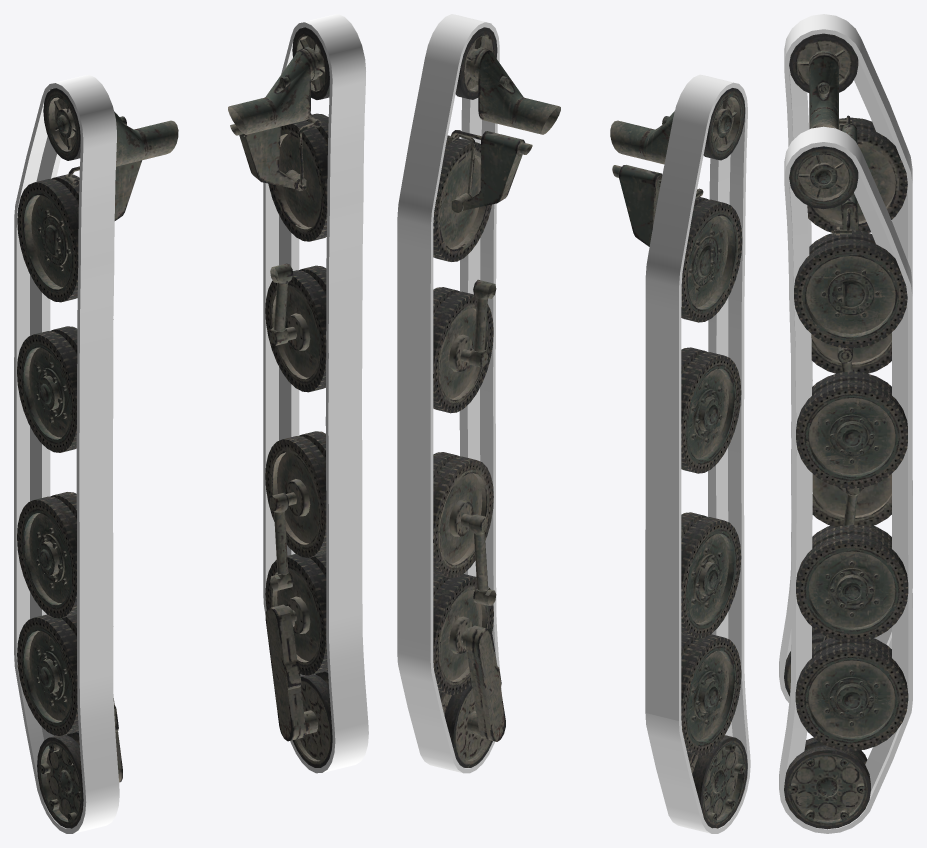
File: Chassis.glb
The picture shows the model from 3 angles, left to right: view 1: azimuth 30°, elevation 25°; view 2: azimuth 150°, elevation 25°; view 3: azimuth 270°, elevation 25°; orthographic projection. The views are drawn at different scales.
Visible parts, largest first — view 1: set_0_group_0, set_3_group_0, set_2_group_0, set_1_group_0; view 2: set_0_group_0, set_3_group_0, set_1_group_0, set_2_group_0; view 3: set_3_group_0, set_1_group_0, set_2_group_0, set_0_group_0.
Part boxes in pixels (left/top/right/bottom): set_0_group_0: left=14, top=75, right=119, bottom=833; set_3_group_0: left=228, top=27, right=332, bottom=767; set_2_group_0: left=17, top=88, right=178, bottom=828; set_1_group_0: left=263, top=14, right=368, bottom=773; set_0_group_0: left=645, top=74, right=750, bottom=833; set_3_group_0: left=433, top=27, right=560, bottom=767; set_1_group_0: left=397, top=14, right=501, bottom=773; set_2_group_0: left=610, top=88, right=747, bottom=828; set_3_group_0: left=784, top=146, right=908, bottom=829; set_1_group_0: left=779, top=126, right=912, bottom=833; set_2_group_0: left=784, top=33, right=907, bottom=696; set_0_group_0: left=779, top=14, right=912, bottom=702.
Bounding box in the file's own units: 2.24 × 5.56 × 0.9734.
Materials: 4 (2 with a texture image).
